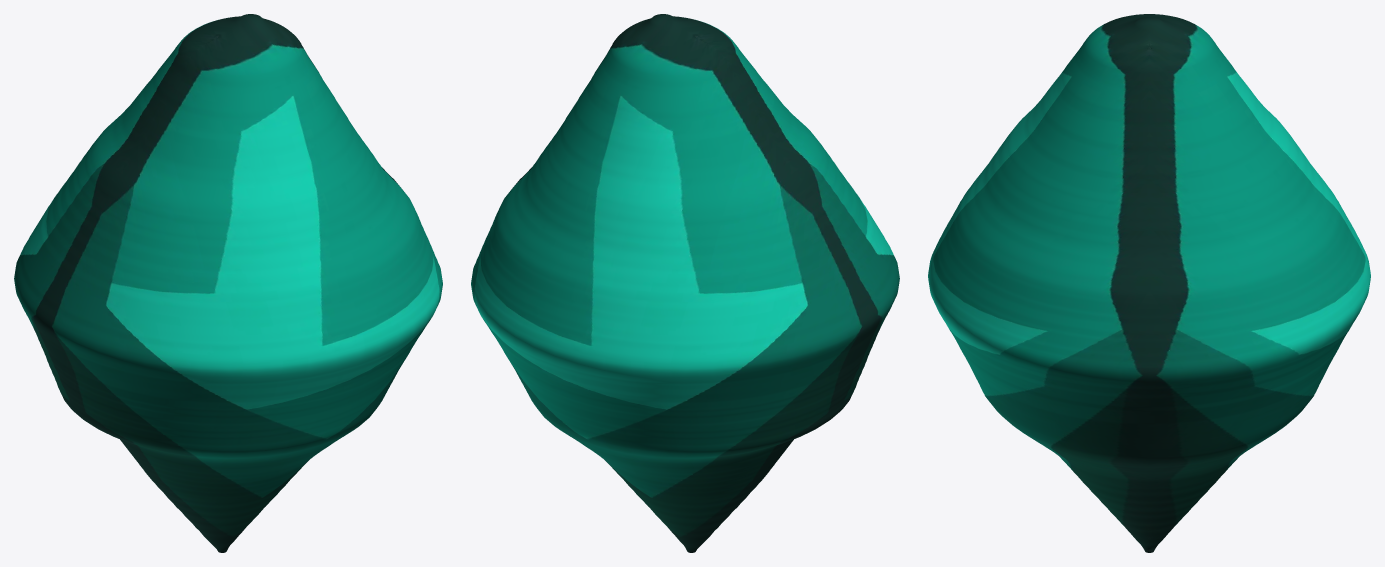
Rendered from teal_crystal.glb.
3 renders of one model, left to right at view 1: azimuth 30°, elevation 25°; view 2: azimuth 150°, elevation 25°; view 3: azimuth 270°, elevation 25°, orthographic. The views are drawn at different scales.
Parts seen in each view (by area): view 1: teal_crystal; view 2: teal_crystal; view 3: teal_crystal.
Part boxes in pixels (x1,y1,x2,y2): teal_crystal: (14,14,442,552); teal_crystal: (471,14,899,552); teal_crystal: (928,14,1370,552).
Size of the model in its own units: 0.9938 by 1.35 by 0.9921.
Materials: 1 (1 with a texture image).
